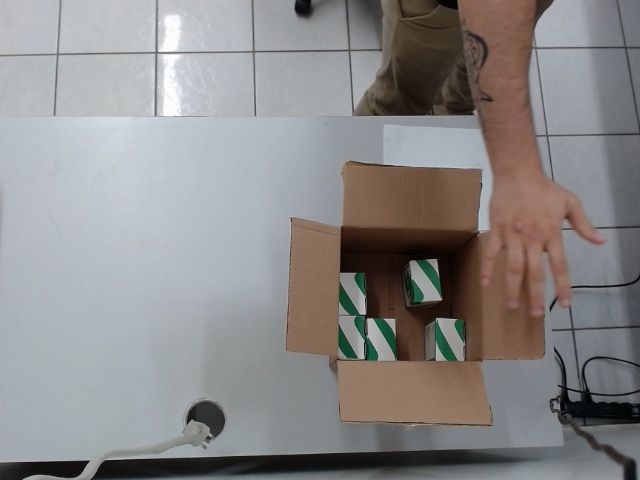caixa_principal: (323, 220, 496, 377)
